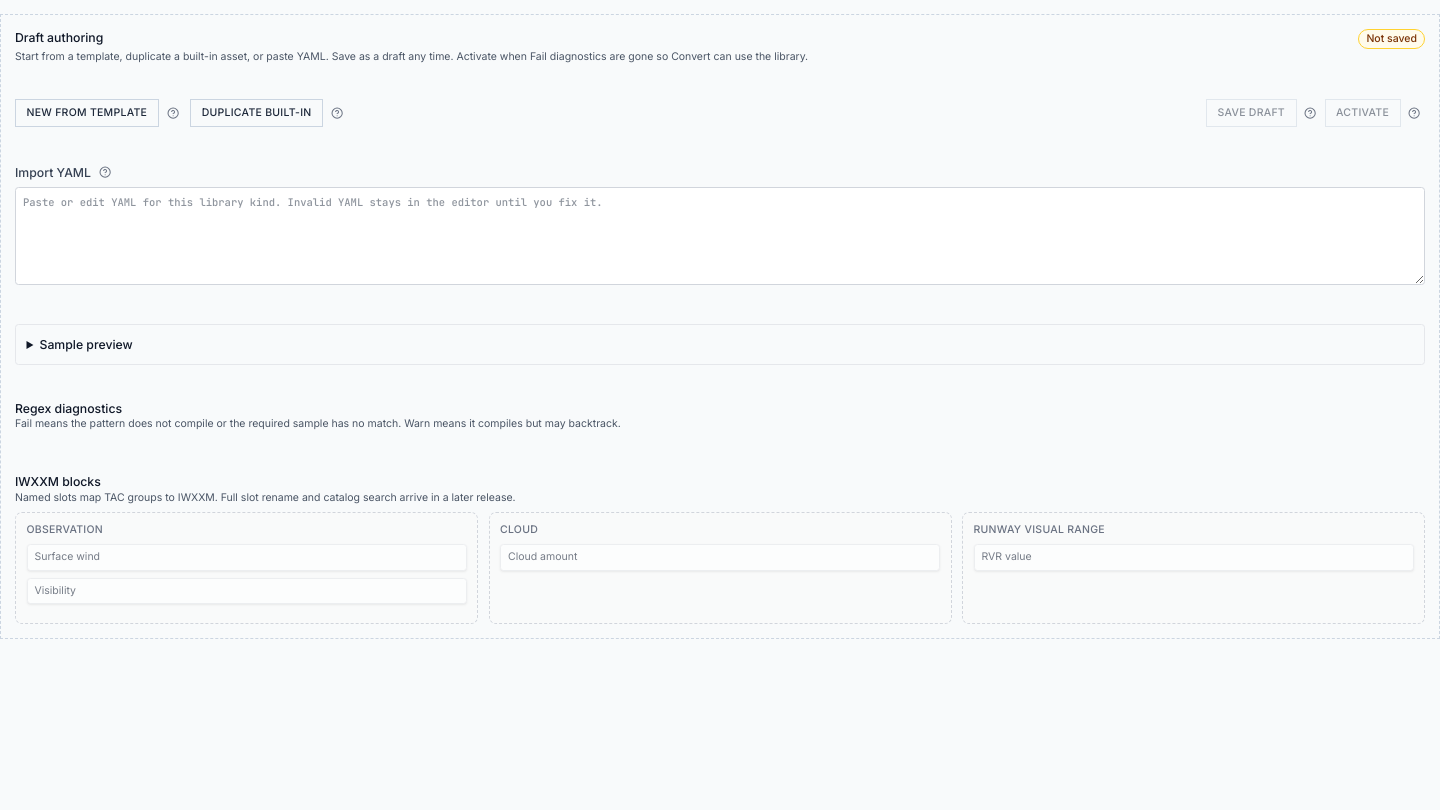
LibraryDraftShell › surfaces persist errors from the API
The image size is (1440, 810).
Step 1. Click the button with test id "library-draft-new-template-decoding" → click(87, 113), box [15, 99, 159, 127]
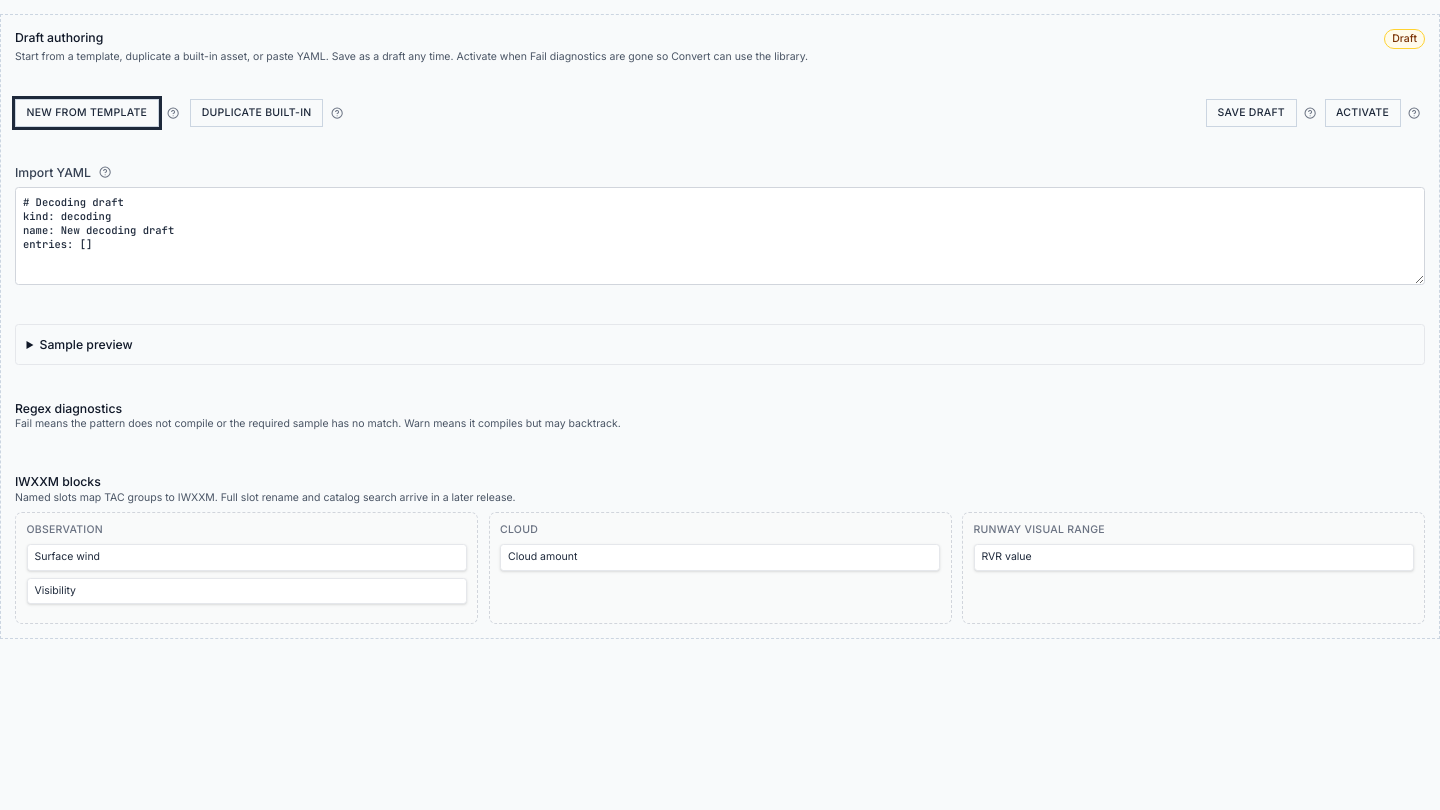
Step 2. Click the button with test id "library-draft-save-decoding" → click(1251, 113), box [1206, 99, 1296, 127]
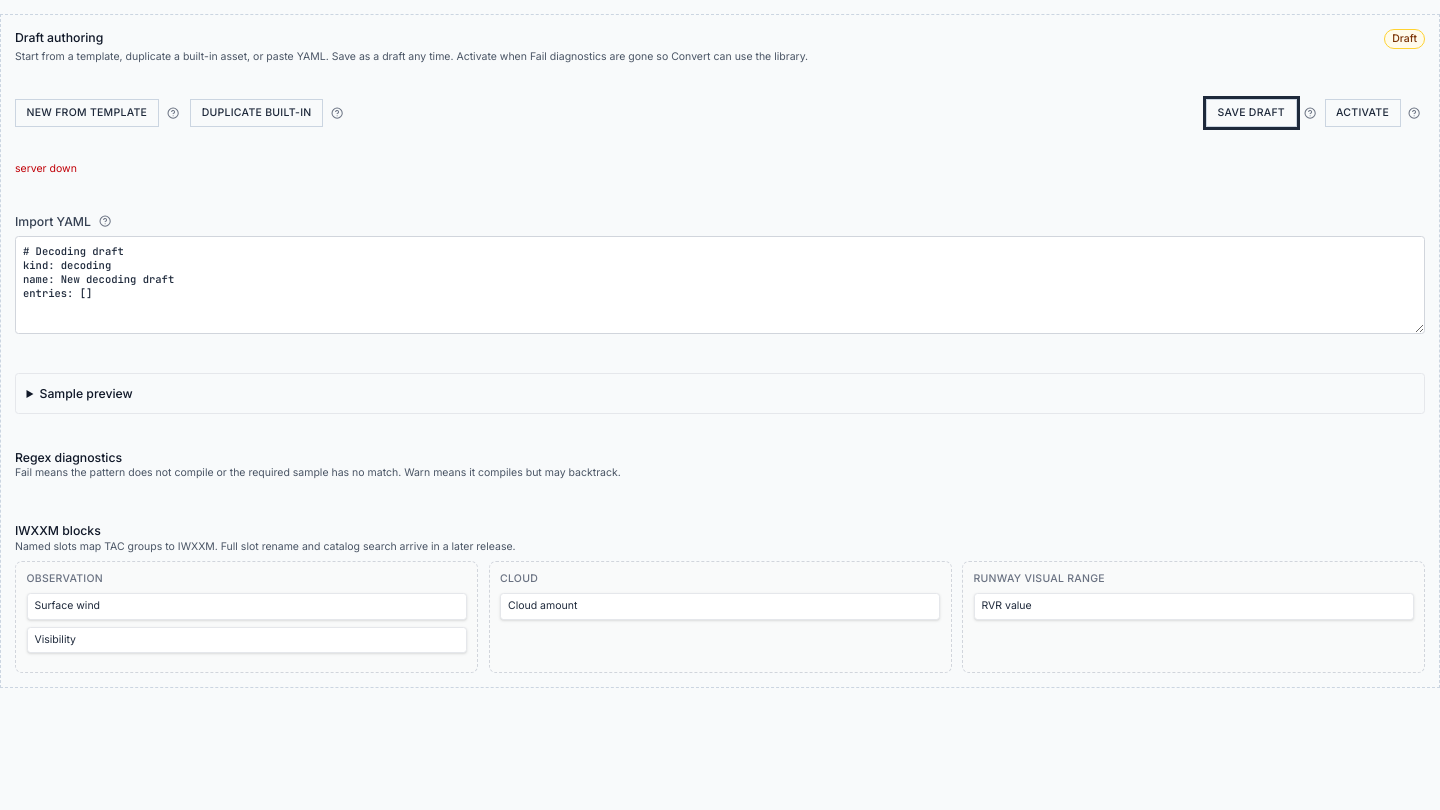
expect the text "server down" is shown: met, box [15, 162, 77, 175]
